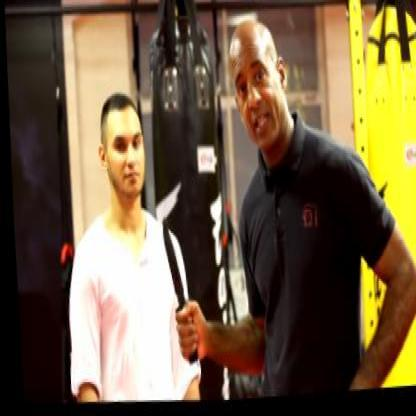knife: (150, 210, 200, 373)
